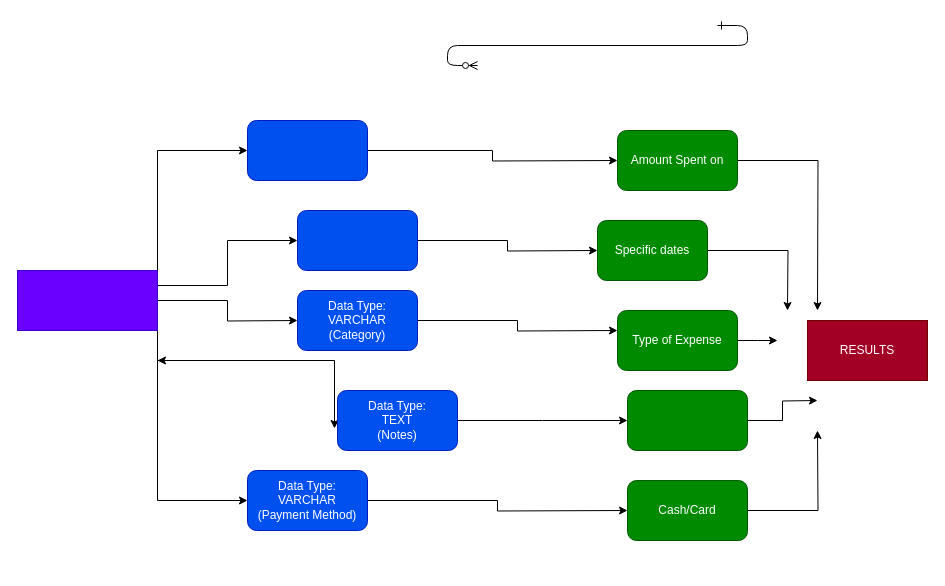
Some shapes in this 945 by 586 pixel diagram are drawn without their labels. Here are the shapes that lost their labels. From the top down, the box of each, then its label:
(246, 120, 368, 180): Data Type: DECIMAL (Amount)
(296, 210, 418, 270): Data Type: DATE (Date)
(16, 270, 158, 330): TRACK EXPENSE
(626, 390, 748, 450): Grocery list
